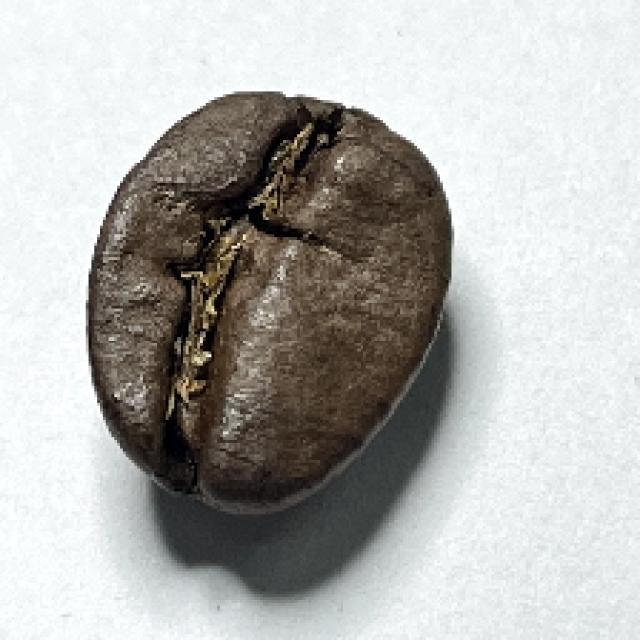bean: (85, 90, 456, 508)
